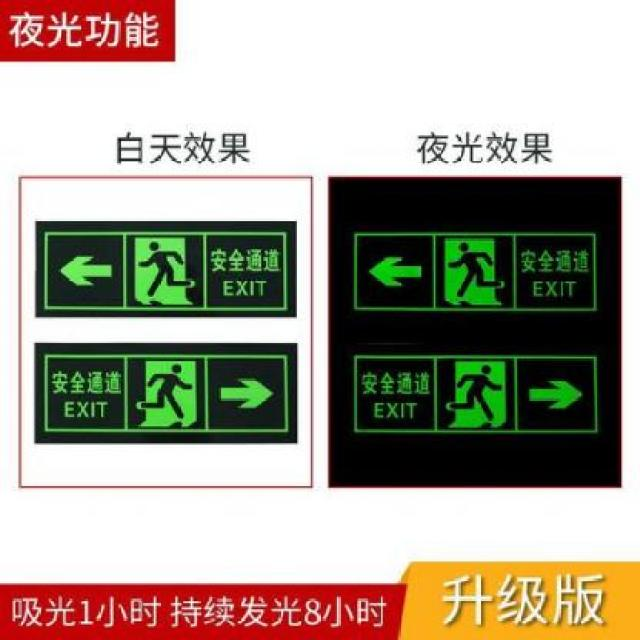exit_sign: (34, 336, 282, 462), (35, 203, 294, 321), (356, 214, 610, 321), (348, 349, 600, 449)
